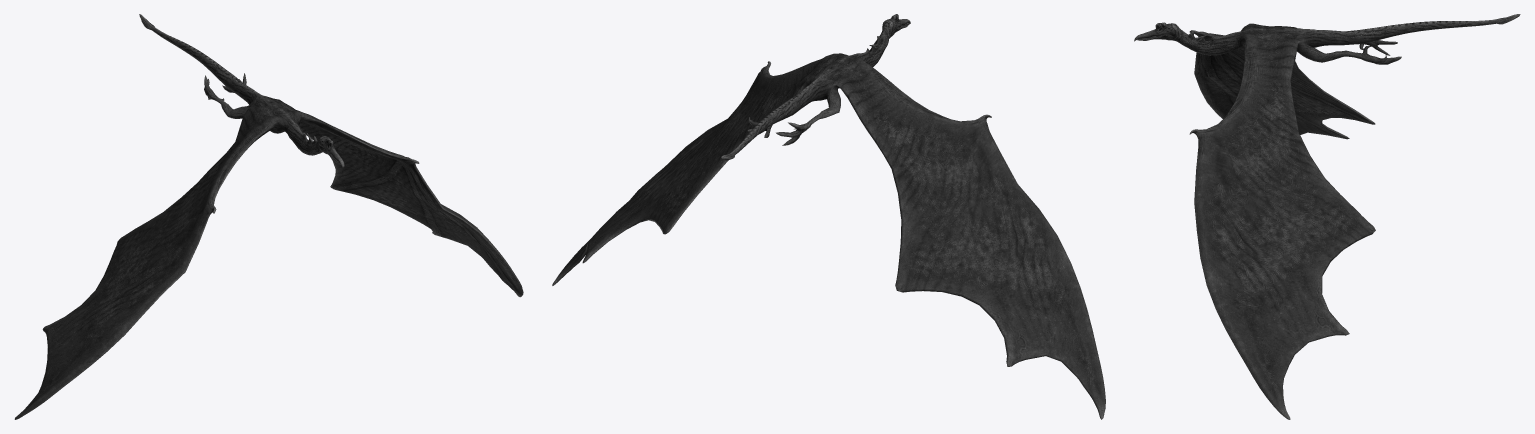
File: Fellbeast_Animate_Flying_24.obj
The picture shows the model from 3 angles, left to right: view 1: azimuth 30°, elevation 25°; view 2: azimuth 150°, elevation 25°; view 3: azimuth 270°, elevation 25°; orthographic projection. The views are drawn at different scales.
Parts seen in each view (by area): view 1: Fellbeast; view 2: Fellbeast; view 3: Fellbeast.
Part boxes in pixels (x1,y1,x2,y2): Fellbeast: (14, 14, 523, 419); Fellbeast: (552, 14, 1105, 419); Fellbeast: (1134, 14, 1520, 419).
Bounding box in the file's own units: 6.8 × 3.42 × 4.39.
